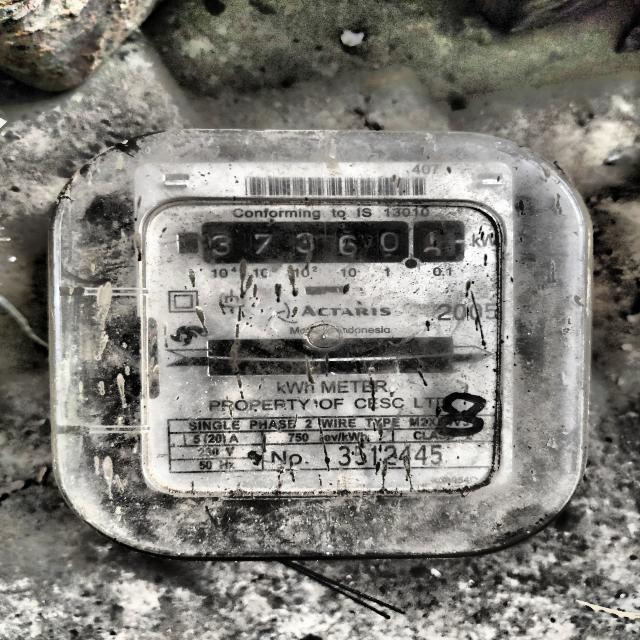Analog: (62, 141, 574, 560)
Reading: (202, 226, 460, 262)
Serial No.: (336, 446, 449, 467)
